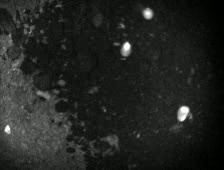corn: (174, 104, 192, 125), (118, 38, 134, 61), (140, 4, 156, 21), (2, 123, 13, 136)
